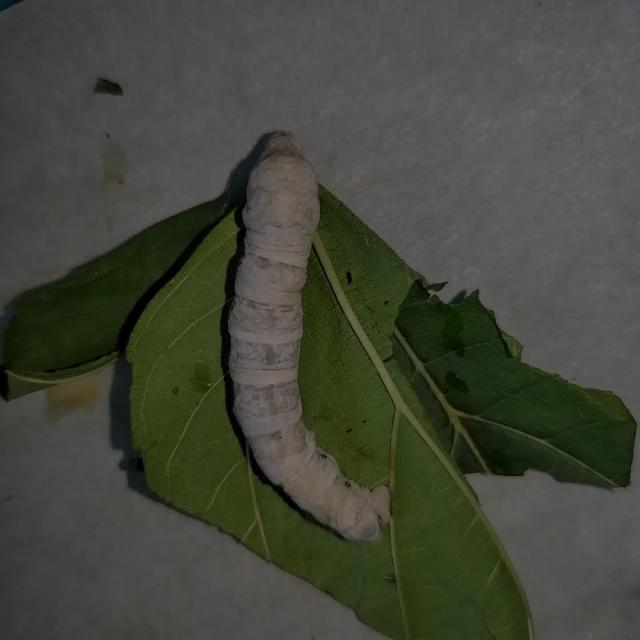Grasserie: (204, 116, 406, 552)
